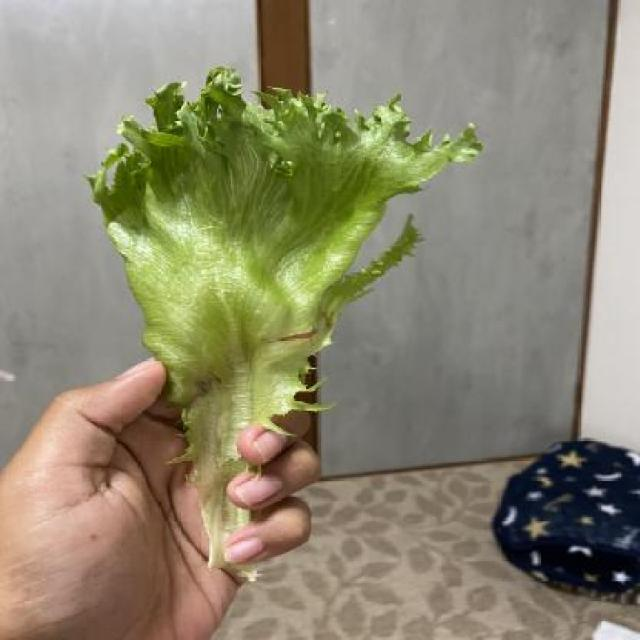lettuce: (88, 59, 488, 590)
